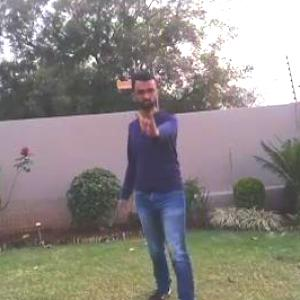takeoff-hand: (134, 104, 160, 145)
